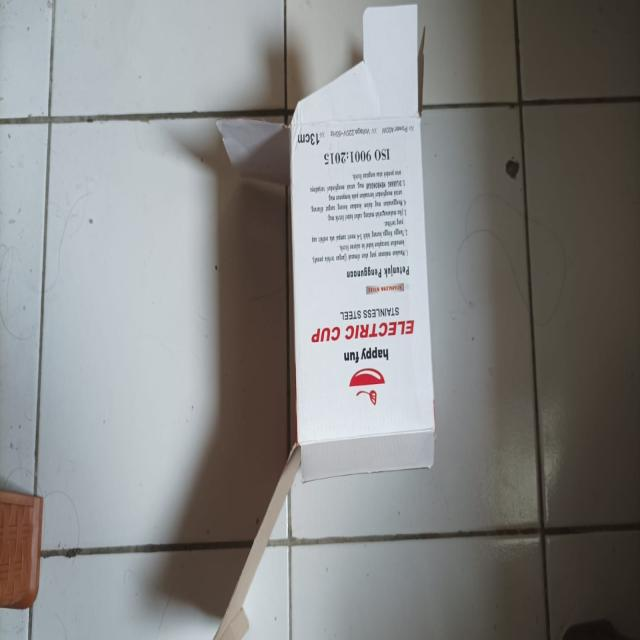Organik: (211, 6, 435, 640)
